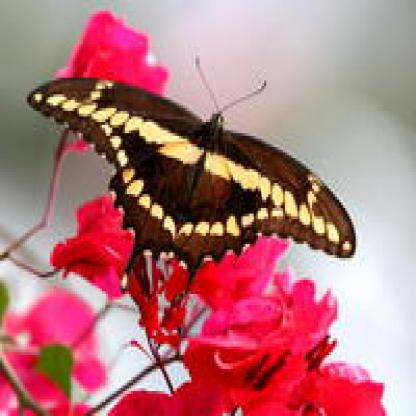Giant Swallowtail: (15, 43, 414, 362)
